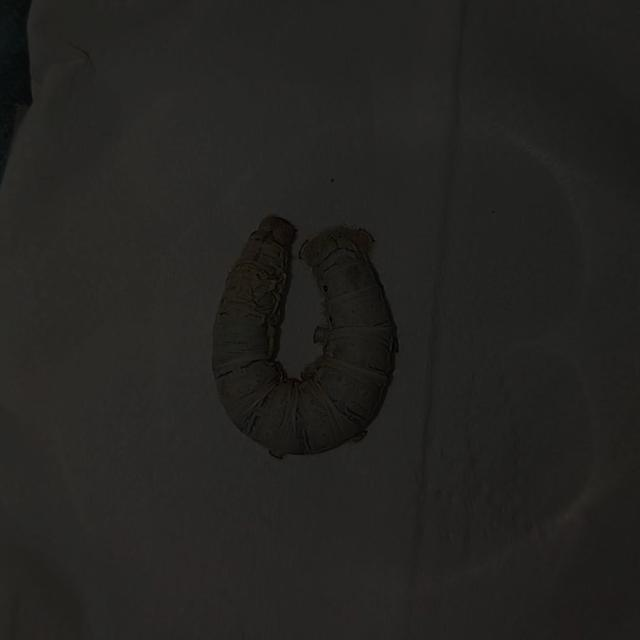Healthy: (196, 188, 431, 481)
